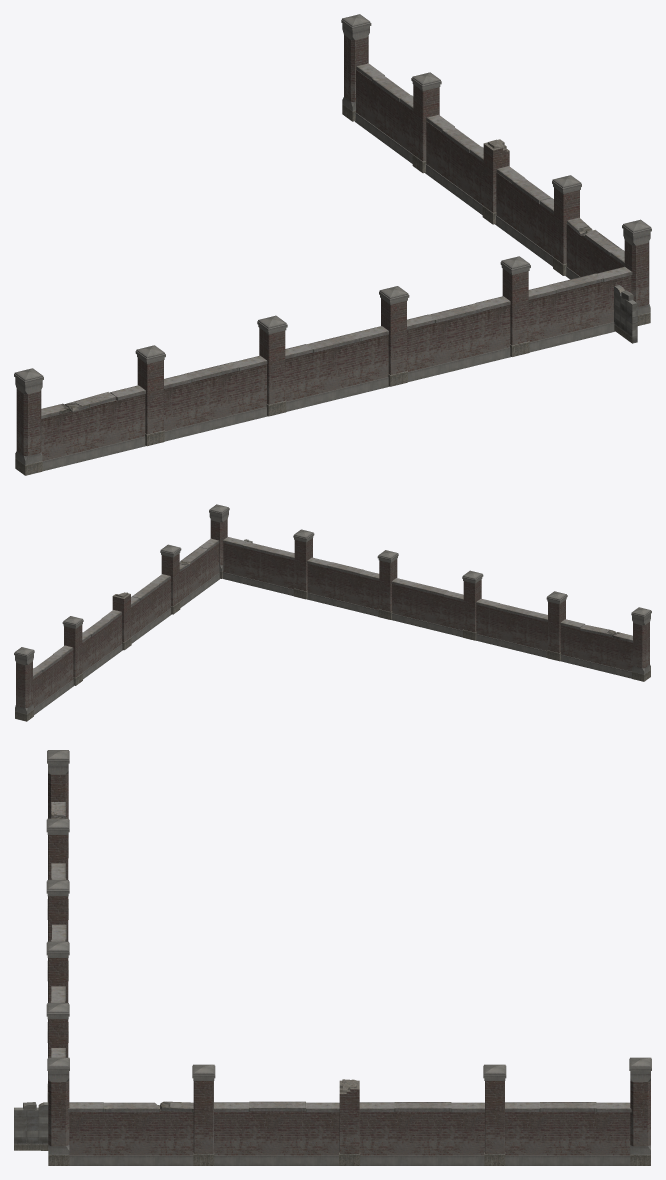
File: Cemetery_STR_OuterWall_03.fbx
3 renders of one model, top to bottom at view 1: azimuth 30°, elevation 25°; view 2: azimuth 150°, elevation 25°; view 3: azimuth 270°, elevation 25°, orthographic. The views are drawn at different scales.
Parts seen in each view (by area): view 1: Cemetery_STR_OuterWall_03; view 2: Cemetery_STR_OuterWall_03; view 3: Cemetery_STR_OuterWall_03.
Part boxes in pixels (<box>): Cemetery_STR_OuterWall_03: <box>14,14,651,475</box>; Cemetery_STR_OuterWall_03: <box>14,504,651,721</box>; Cemetery_STR_OuterWall_03: <box>14,750,651,1165</box>.
Bounding box in the file's own units: 2372 × 361 × 2016.
1 material, 1 textured.
